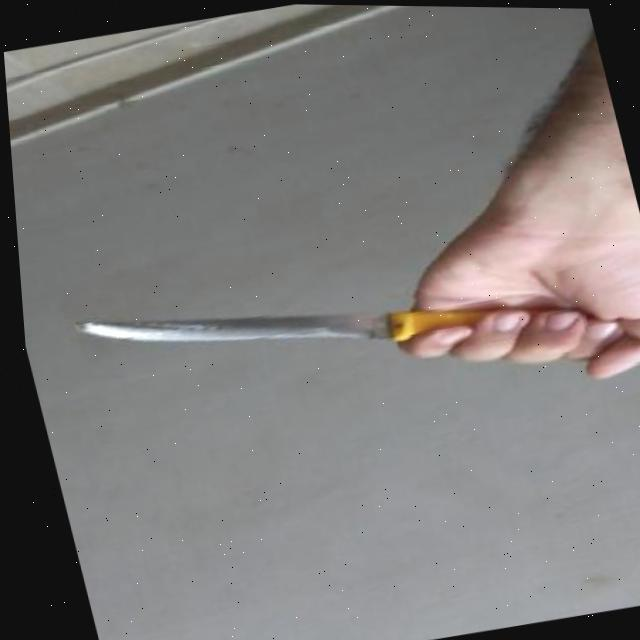knife: (65, 240, 536, 394)
